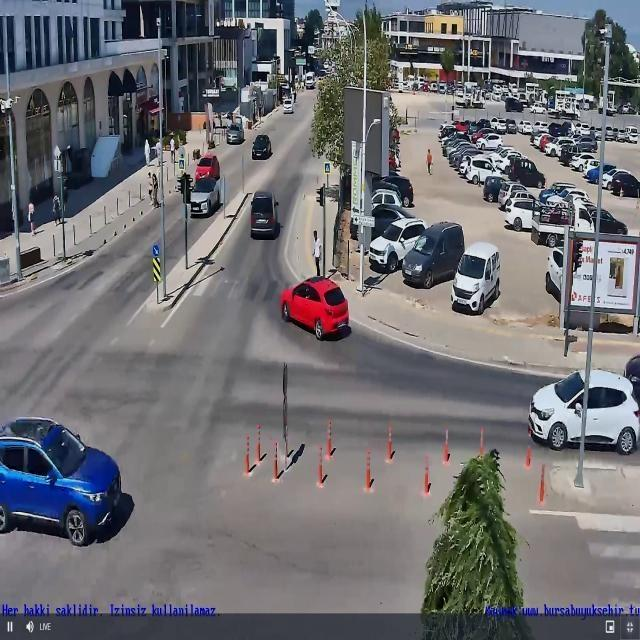Car: (0, 414, 121, 549), (529, 369, 640, 455), (278, 276, 349, 342), (403, 221, 464, 288), (449, 239, 499, 312), (370, 215, 429, 272), (349, 203, 417, 241), (545, 247, 585, 300), (574, 207, 629, 236), (250, 191, 280, 238), (502, 196, 542, 231), (506, 157, 547, 189), (187, 177, 219, 216), (464, 156, 505, 186), (380, 176, 414, 208), (539, 182, 580, 204), (498, 183, 531, 208), (621, 355, 640, 398), (194, 154, 221, 184), (458, 156, 496, 177), (600, 168, 634, 191), (612, 171, 640, 197), (546, 188, 590, 204), (482, 175, 508, 202), (496, 153, 532, 172), (565, 137, 597, 157), (370, 190, 402, 209), (586, 164, 616, 184), (544, 138, 574, 158), (509, 190, 538, 210), (370, 181, 402, 199), (252, 134, 272, 160), (569, 153, 596, 171), (475, 134, 503, 150), (225, 122, 244, 145), (473, 128, 496, 142), (583, 159, 601, 176), (490, 116, 507, 134), (517, 120, 534, 134), (600, 127, 617, 141), (540, 135, 554, 152), (584, 160, 600, 174), (452, 120, 468, 134), (532, 121, 549, 134), (575, 122, 590, 136), (529, 102, 546, 114), (549, 123, 564, 136), (282, 99, 294, 114), (534, 133, 546, 148), (476, 118, 492, 129), (505, 120, 518, 133), (616, 129, 628, 142), (590, 126, 600, 140), (467, 121, 478, 133)
Truck: (529, 202, 595, 247), (549, 100, 582, 120), (462, 87, 488, 109)
Van: (305, 71, 316, 90)
